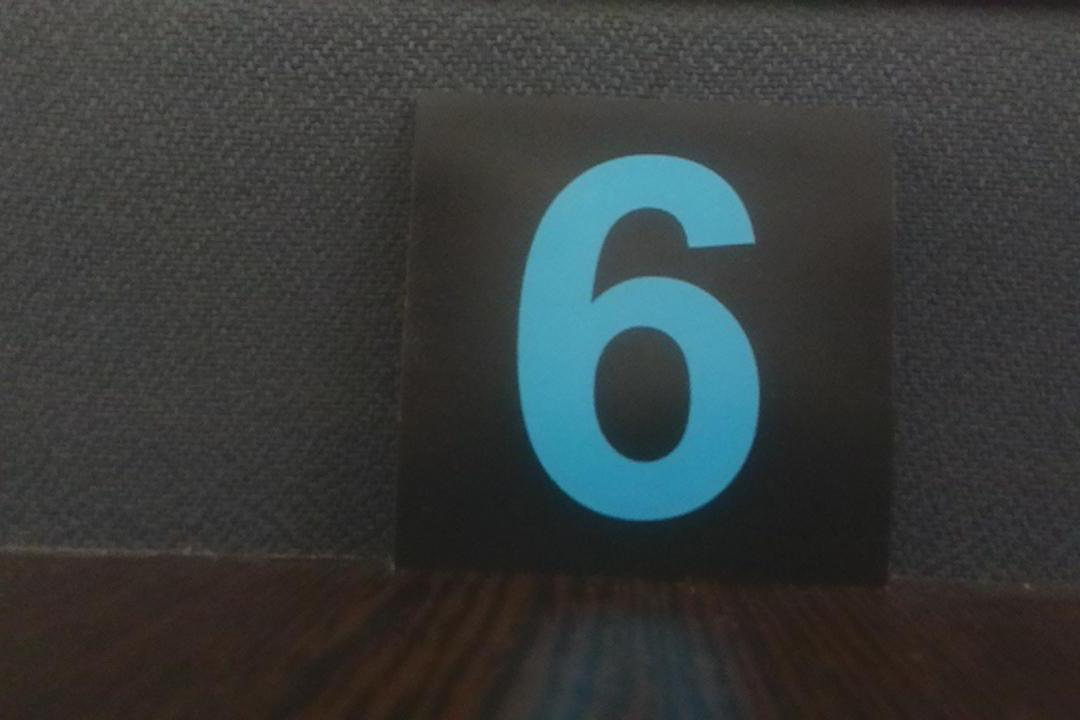six: (413, 88, 888, 585)
